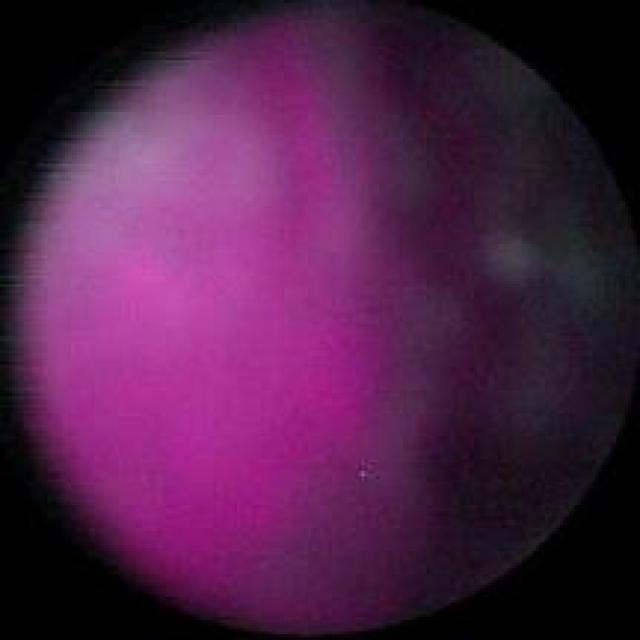blur: (15, 15, 629, 633)
contrast: (364, 17, 619, 617)
